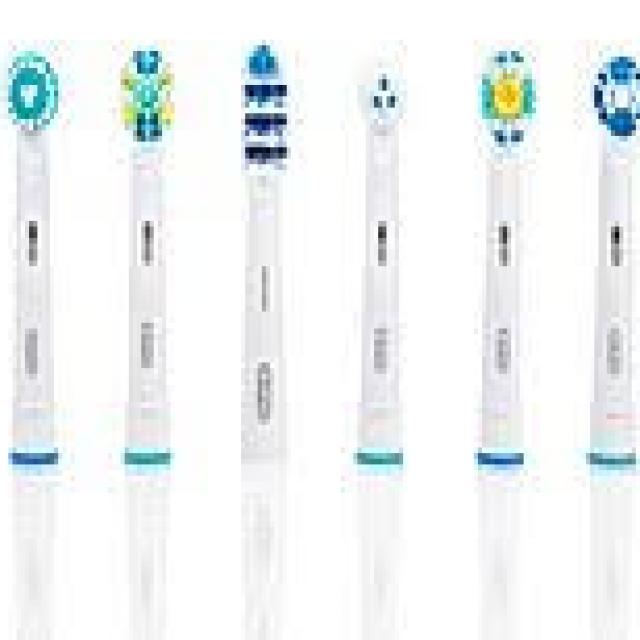organic: (111, 48, 195, 632), (348, 42, 420, 630), (473, 48, 541, 636), (6, 52, 73, 635), (236, 46, 299, 627), (581, 43, 635, 632)
